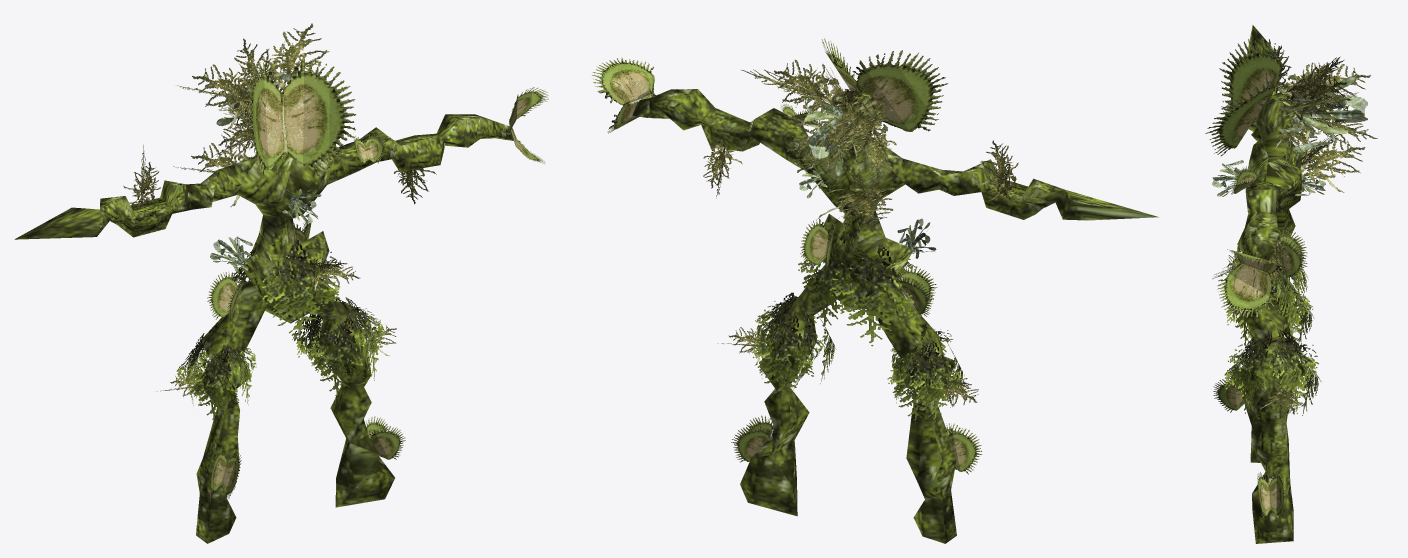
File: VEGIMONSTER_V4_noanim.fbx
3 views of the same model, side by side, from view 1: azimuth 30°, elevation 25°; view 2: azimuth 150°, elevation 25°; view 3: azimuth 270°, elevation 25° (orthographic). The views are drawn at different scales.
Parts seen in each view (by area): view 1: Vegimonster Base, Vegimonster Decal; view 2: Vegimonster Decal, Vegimonster Base; view 3: Vegimonster Decal, Vegimonster Base.
Boxes of the visible parts, x1,y1,x2,y2 form: Vegimonster Base: (14, 110, 513, 543); Vegimonster Decal: (123, 23, 548, 499); Vegimonster Decal: (592, 38, 1018, 474); Vegimonster Base: (632, 89, 1158, 543); Vegimonster Decal: (1205, 37, 1377, 519); Vegimonster Base: (1237, 25, 1304, 543).
Bounding box in the file's own units: 289 × 245 × 96.77.
1 material, 1 textured.
